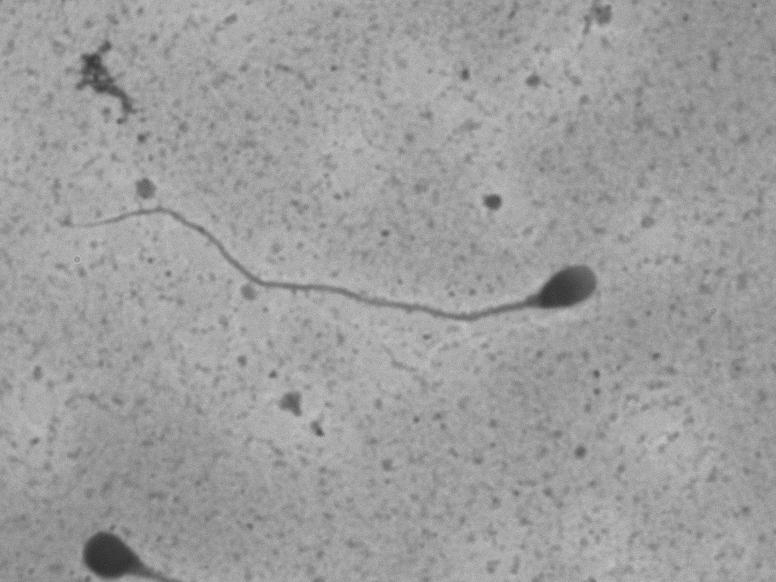Normal: (47, 175, 628, 348)
